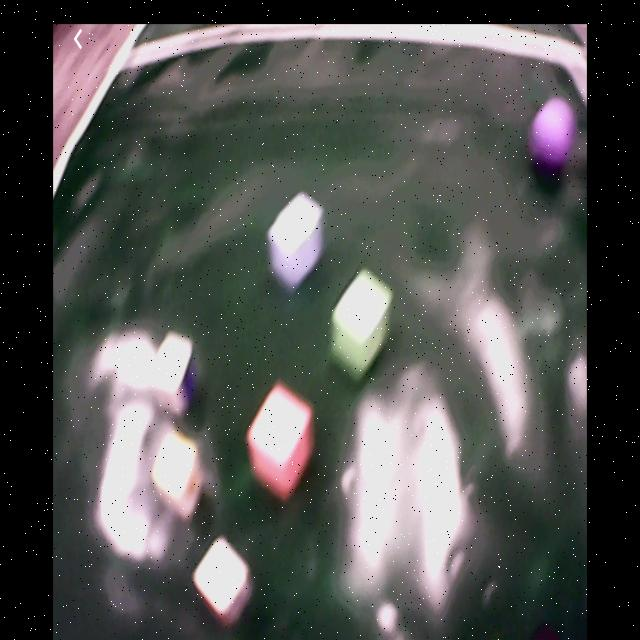ball: (531, 99, 575, 167)
